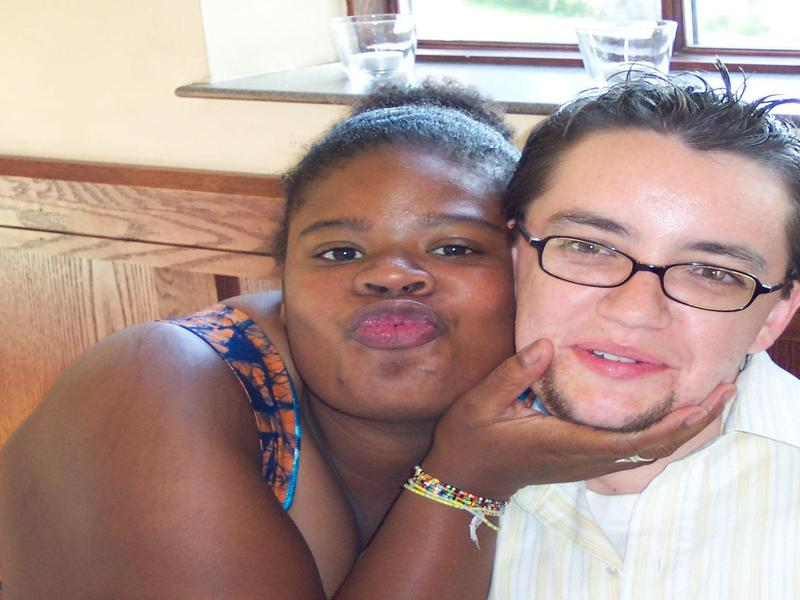person: (1, 90, 714, 600), (492, 84, 800, 599)
